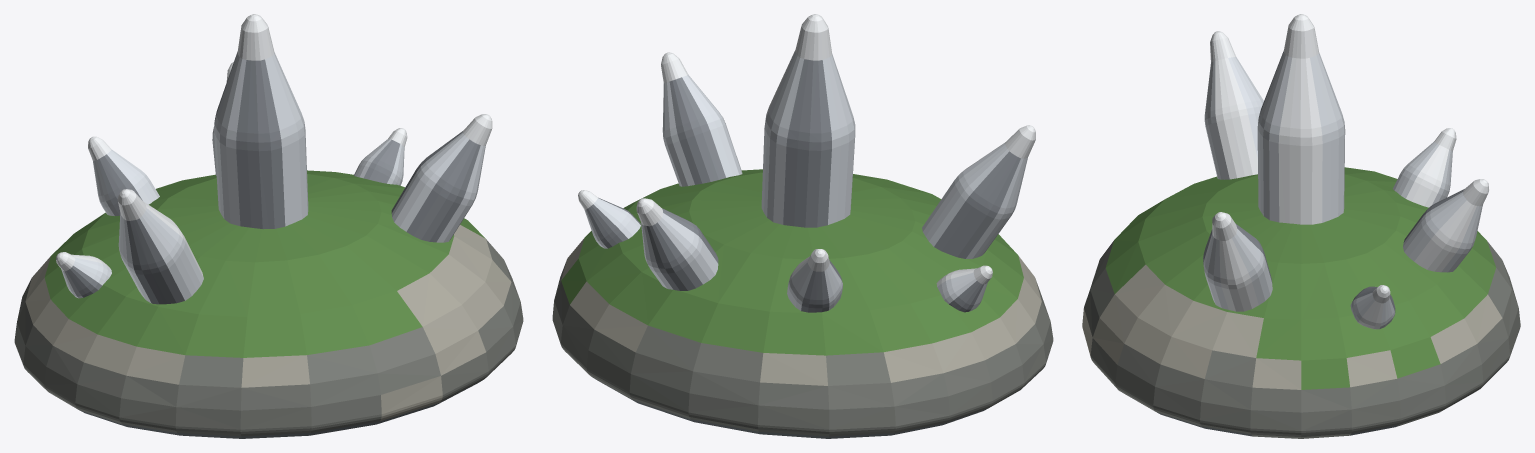
File: OreVein3.obj
3 renders of one model, left to right at view 1: azimuth 30°, elevation 25°; view 2: azimuth 150°, elevation 25°; view 3: azimuth 270°, elevation 25°, orthographic. The views are drawn at different scales.
Size of the model in its own units: 5.17 by 4 by 4.57.
